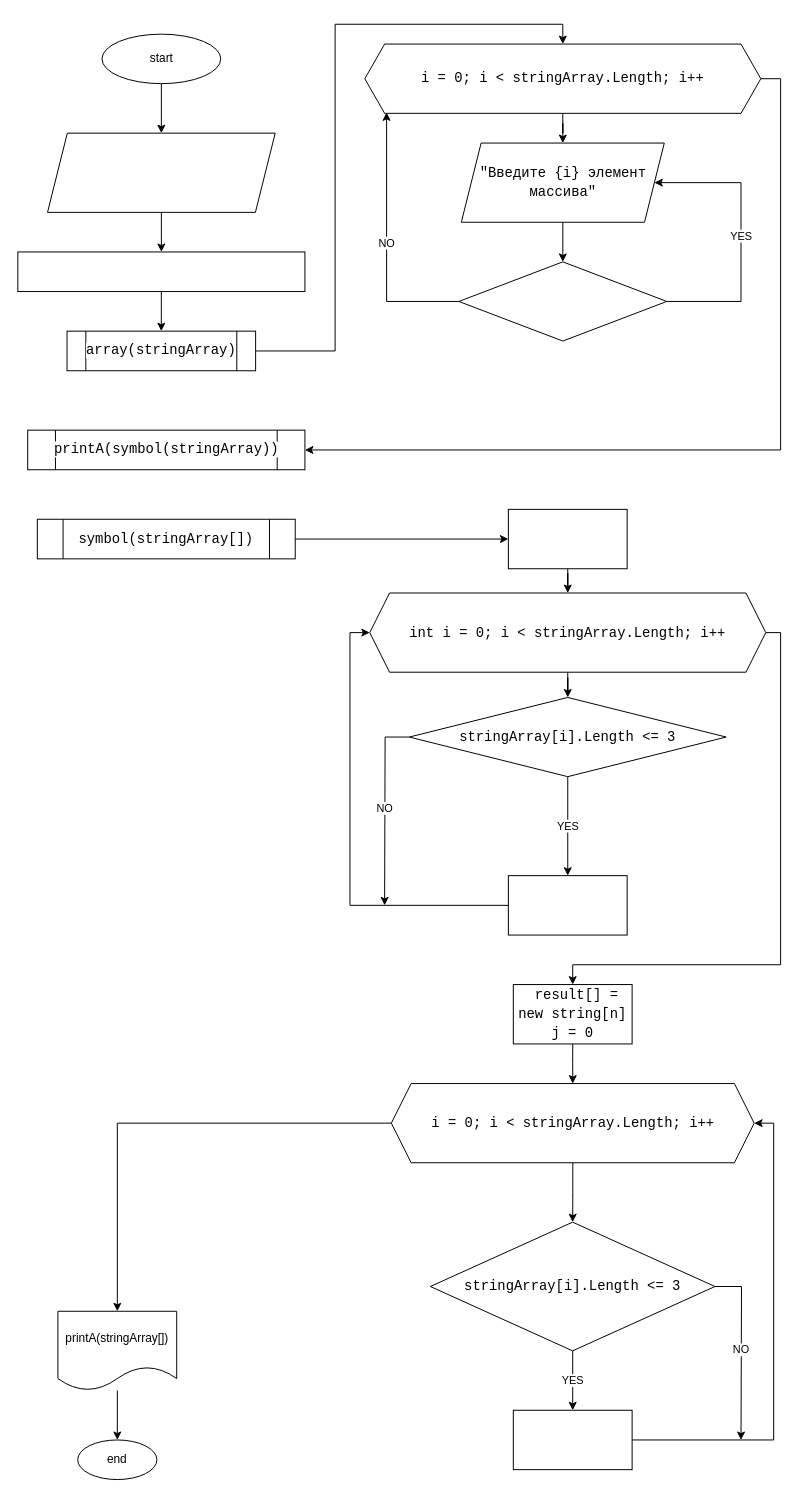
This 806x1497 diagram has some shape labels left out. The shapes that lost their labels are listed below. From the top down, each one's box as (x1, y1, x2, y2) in pixels, then its label:
(47, 132, 275, 212): "Введите количество элементов массива" size
(17, 251, 305, 292): stringArray[] = new string [ size ]
(458, 261, 667, 341): stringArray.Length<= size
(507, 508, 627, 569): n = 0
(507, 875, 627, 935): n++
(512, 1409, 632, 1470): result[j] = stringArray[i] j++
